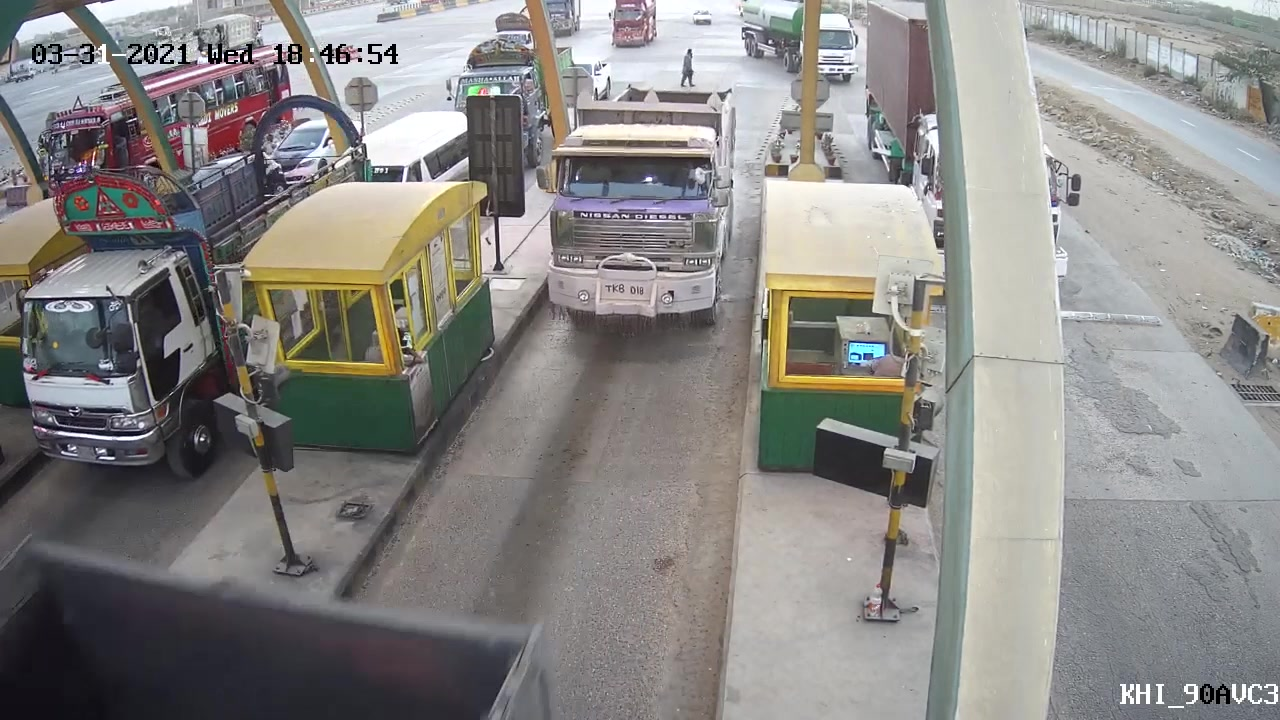F5: (519, 77, 745, 352)
